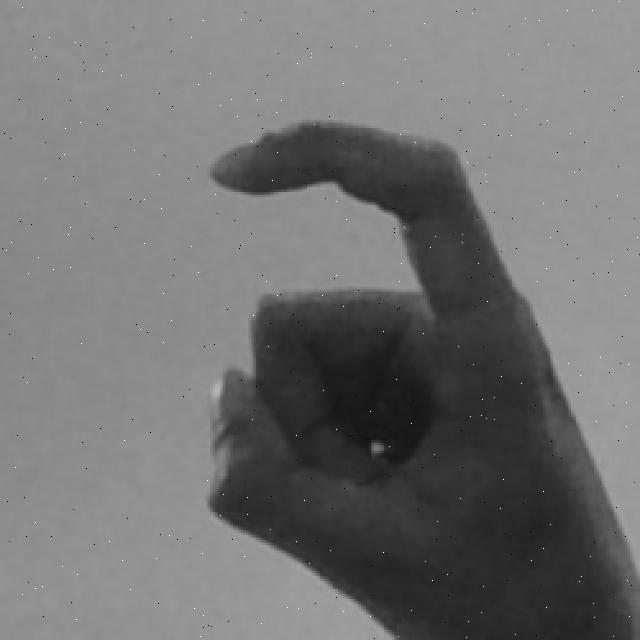X: (197, 107, 619, 640)
